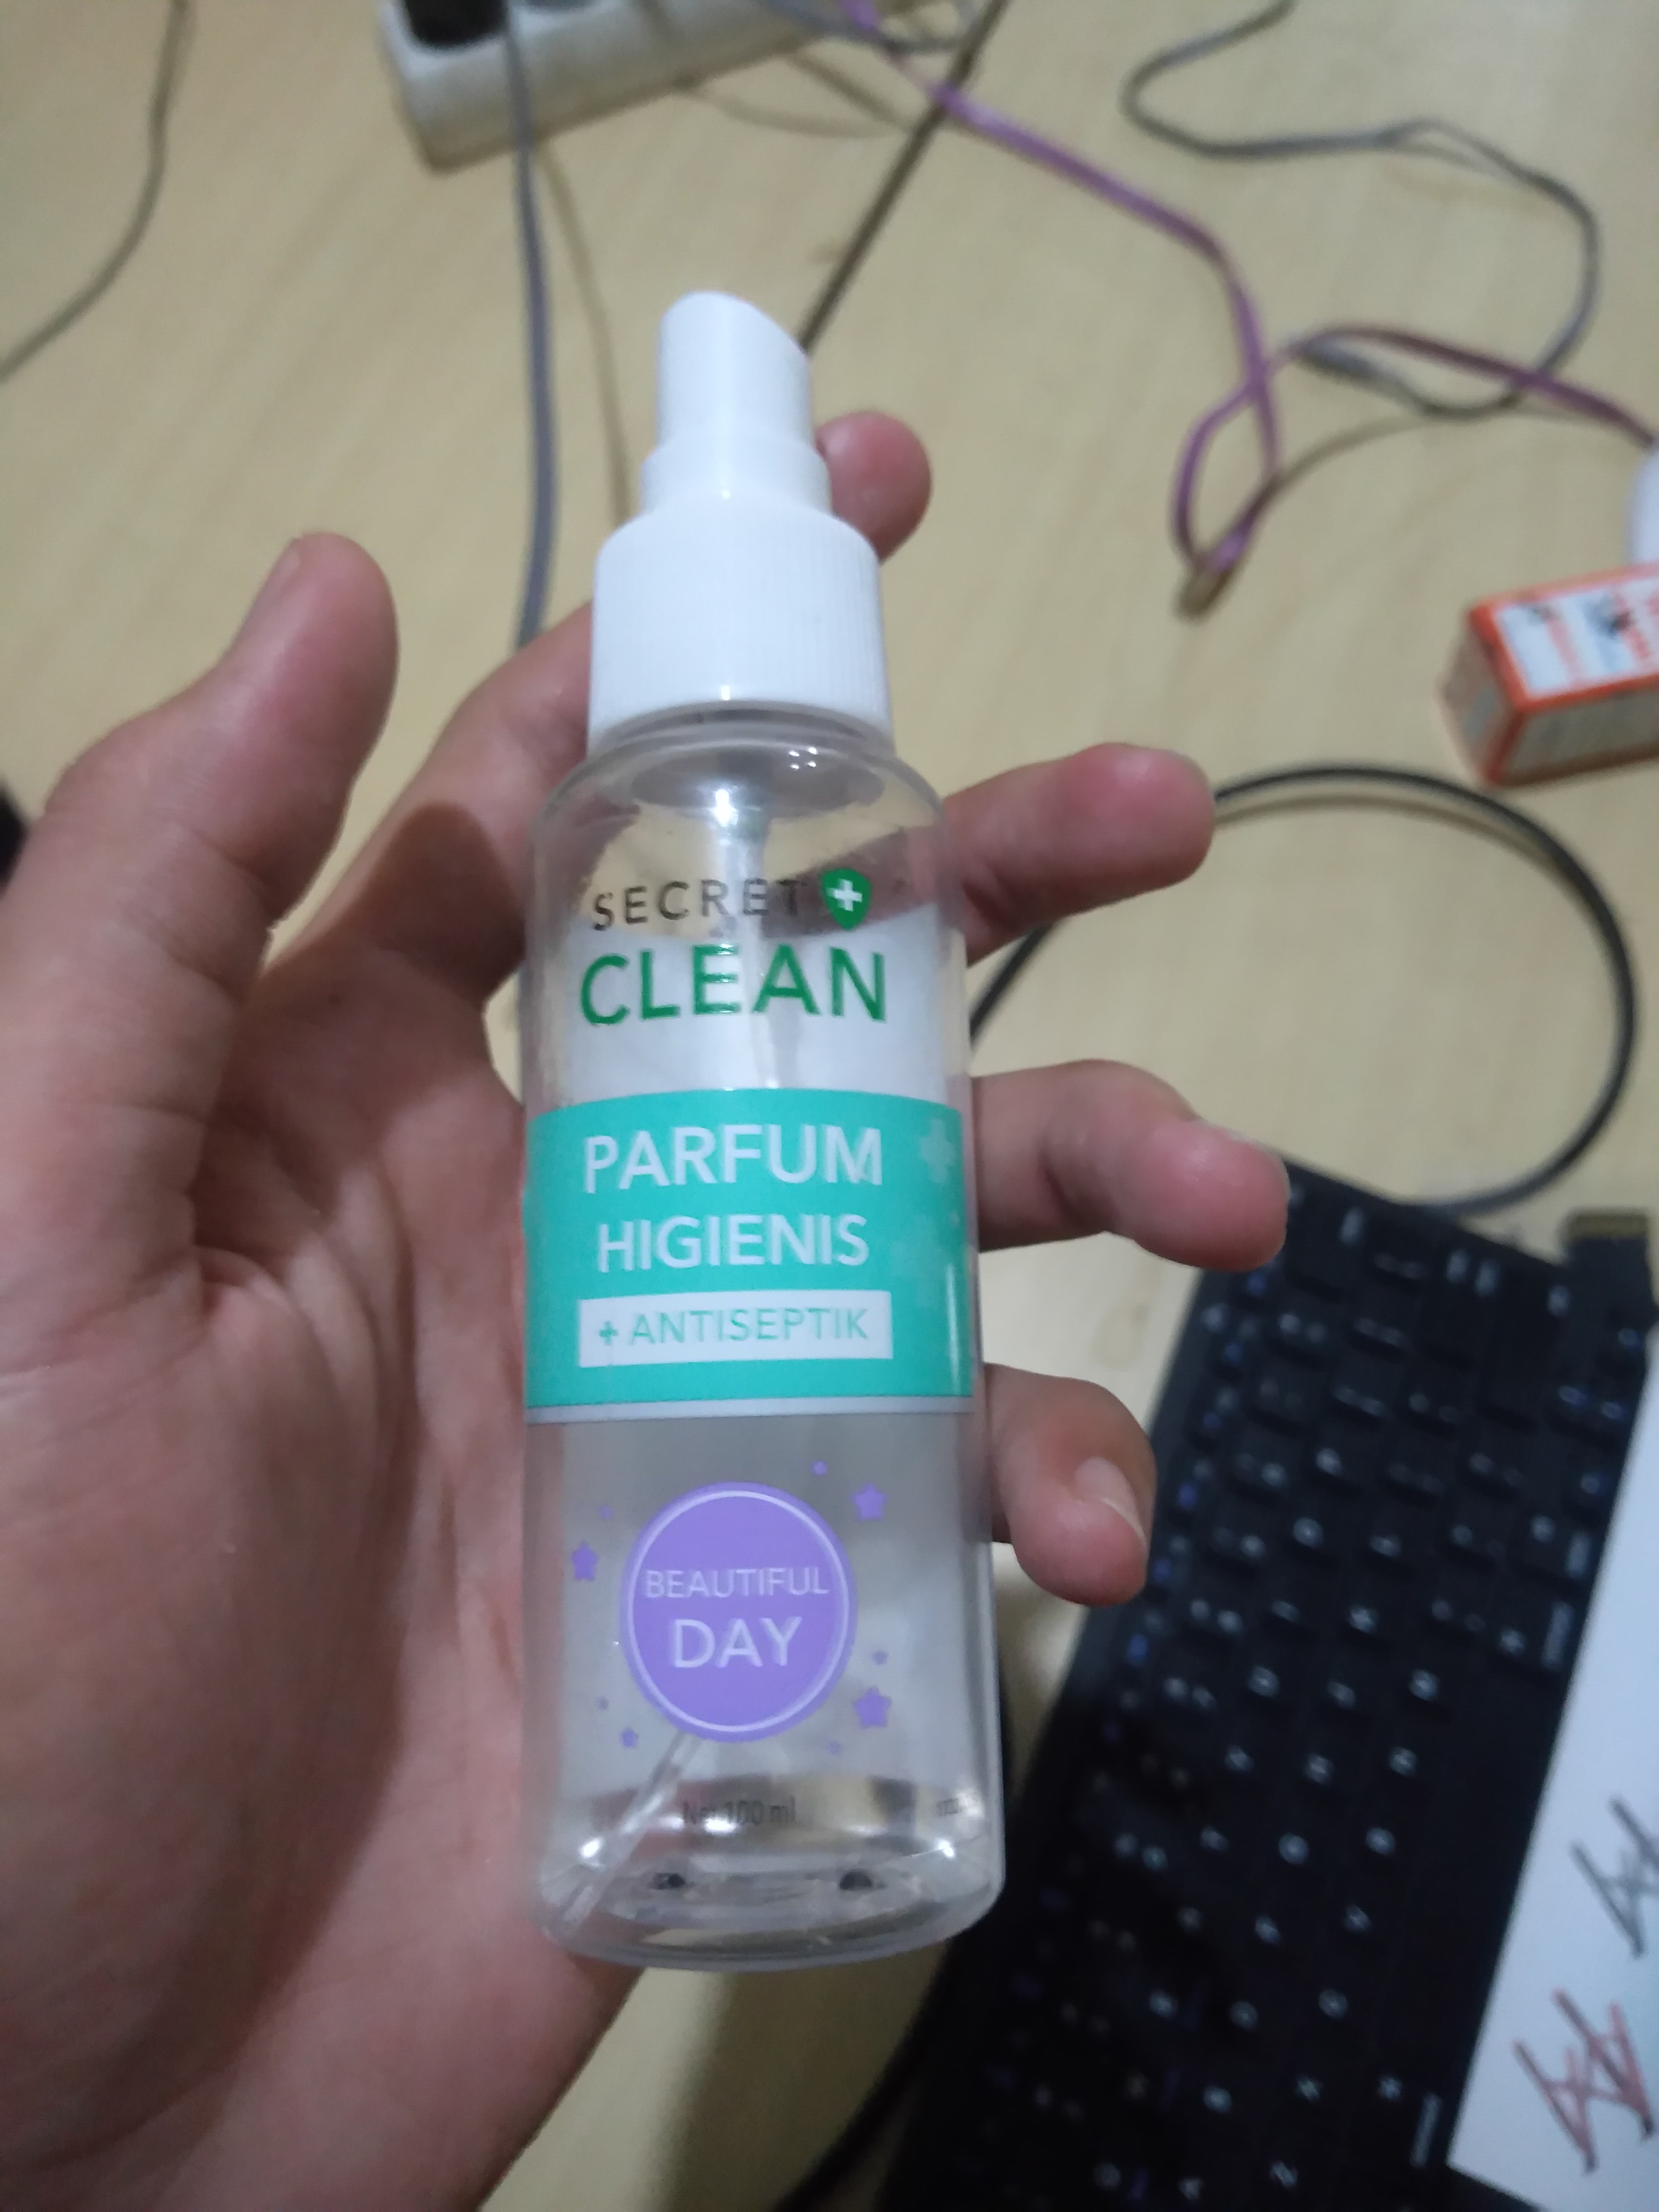hand sanitizer: (467, 216, 1012, 2029)
